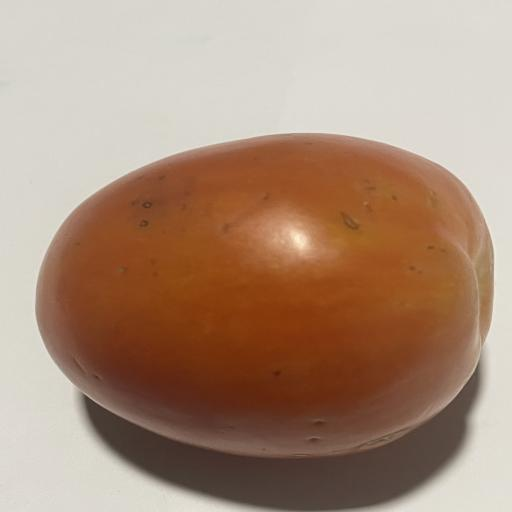unripe: (37, 133, 493, 458)
